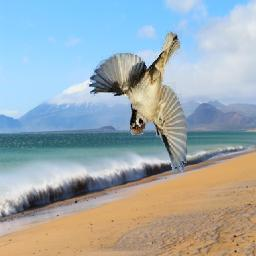Sparrow: (87, 31, 187, 176)
